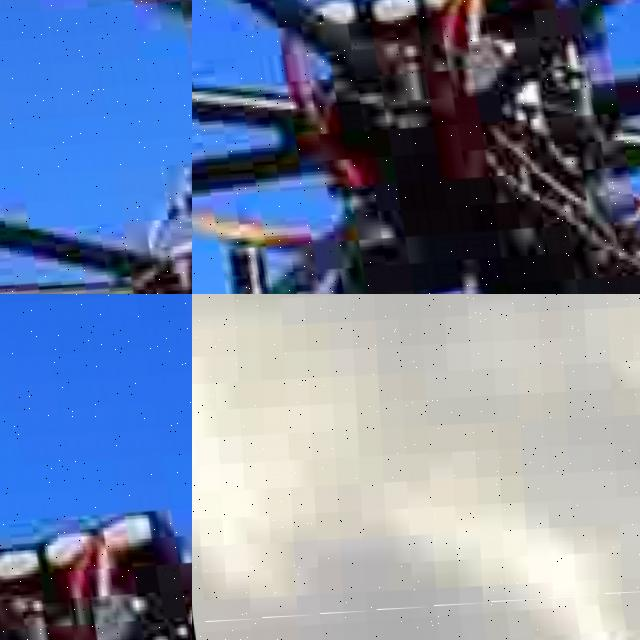drone: (192, 0, 640, 294), (0, 294, 192, 640), (0, 0, 192, 294)
